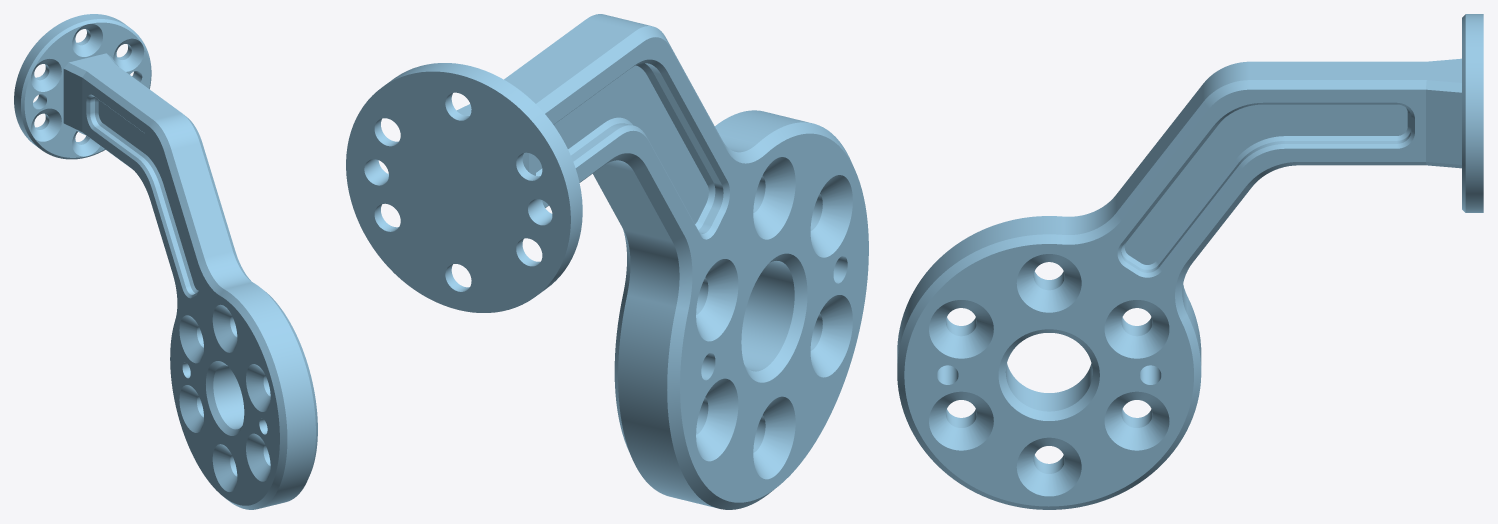
File: l_shoulder_roll_link.dae
3 renders of one model, left to right at view 1: azimuth 30°, elevation 25°; view 2: azimuth 150°, elevation 25°; view 3: azimuth 270°, elevation 25°, orthographic. The views are drawn at different scales.
Visible parts, largest first — view 1: shoulder_roll_link_mirror; view 2: shoulder_roll_link_mirror; view 3: shoulder_roll_link_mirror.
Boxes of the visible parts, x1,y1,x2,y2 form: shoulder_roll_link_mirror: (14,14,317,509); shoulder_roll_link_mirror: (346,14,868,509); shoulder_roll_link_mirror: (897,14,1483,509).
Bounding box in the file's own units: 0.0275 × 0.0727 × 0.081.
